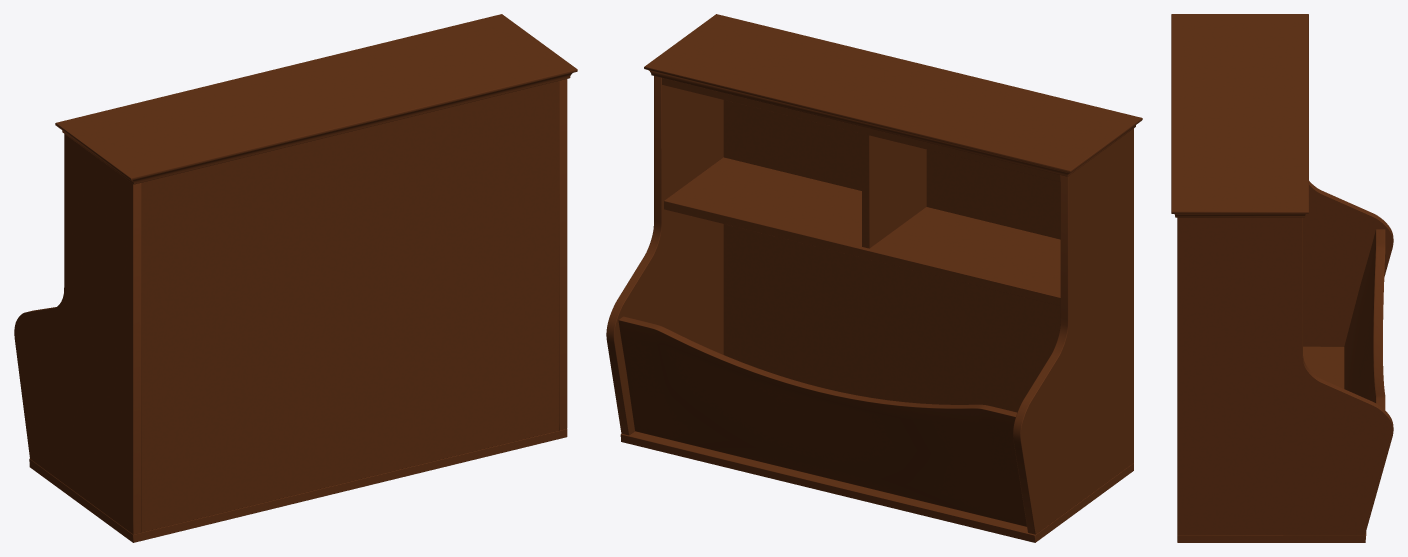
Rendered from abo_B07PHP31FB.glb.
3 renders of one model, left to right at view 1: azimuth 30°, elevation 25°; view 2: azimuth 150°, elevation 25°; view 3: azimuth 270°, elevation 25°, orthographic. The views are drawn at different scales.
Visible parts, largest first — view 1: B07PHP31FB; view 2: B07PHP31FB; view 3: B07PHP31FB.
Part boxes in pixels (x1,y1,x2,y2): B07PHP31FB: (14, 14, 577, 542); B07PHP31FB: (606, 14, 1142, 542); B07PHP31FB: (1171, 14, 1393, 542).
Bounding box in the file's own units: 0.7924 × 0.6248 × 0.3759.
1 material, 1 textured.
